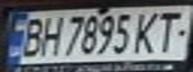5: (112, 10, 139, 55)
7: (60, 12, 84, 56)
8: (78, 11, 103, 56)
9: (97, 11, 118, 55)
B: (15, 15, 48, 57)
H: (36, 12, 66, 57)
K: (130, 8, 163, 55)
T: (148, 7, 190, 54)
